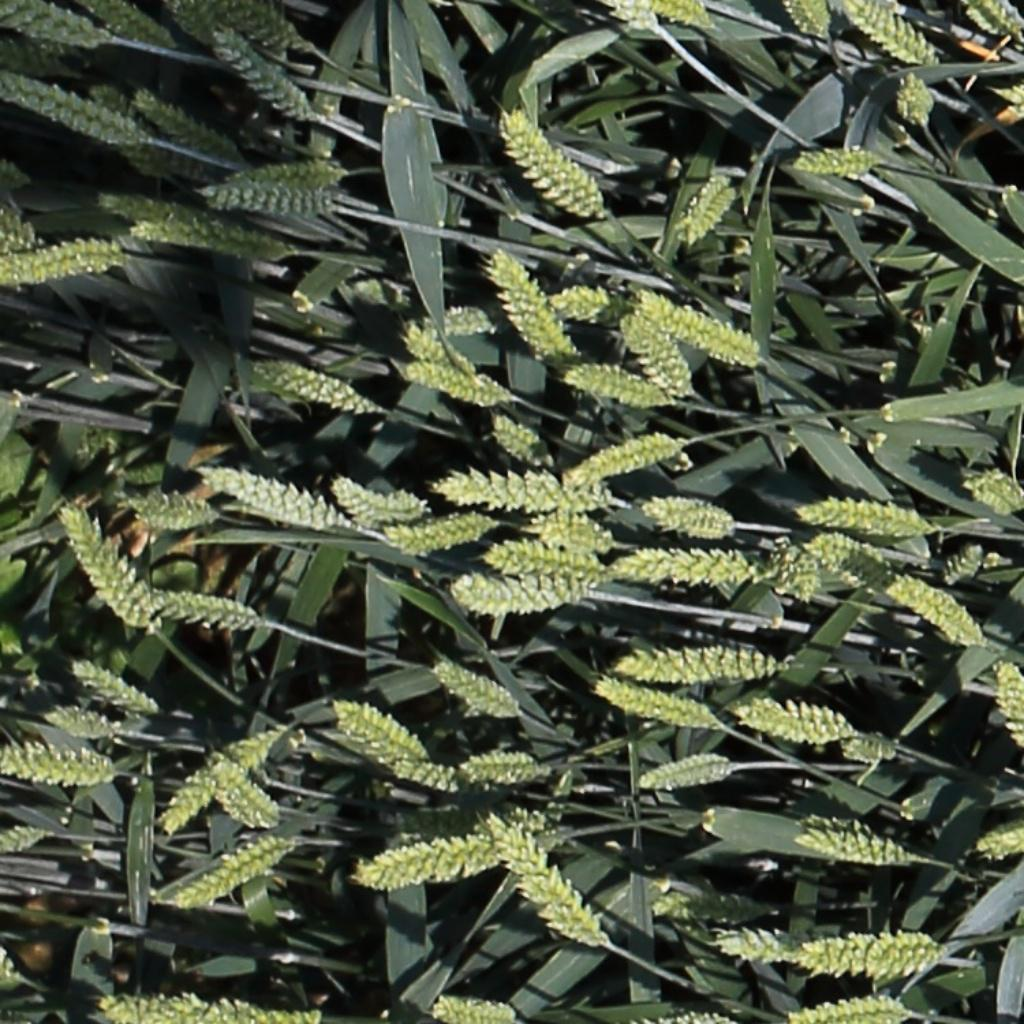0-0: (159, 712, 292, 833), (492, 822, 602, 943), (55, 503, 152, 630), (496, 107, 600, 214), (5, 72, 147, 146), (484, 245, 573, 361), (208, 27, 315, 121), (175, 828, 292, 911), (203, 469, 349, 531), (357, 829, 496, 887), (795, 926, 942, 980), (637, 294, 752, 361), (433, 471, 605, 514), (566, 427, 688, 483), (613, 646, 781, 686), (448, 571, 594, 616), (892, 573, 980, 647), (129, 88, 229, 152), (251, 359, 370, 412), (0, 241, 131, 289), (481, 535, 614, 582), (625, 305, 693, 396), (593, 679, 712, 729), (733, 698, 859, 745), (352, 752, 485, 796), (797, 816, 914, 865), (845, 1, 932, 66), (613, 547, 753, 587), (562, 365, 680, 411), (330, 703, 425, 760), (150, 587, 261, 635), (388, 513, 503, 557), (327, 479, 432, 527), (0, 742, 111, 787), (197, 184, 330, 221), (69, 659, 155, 716), (131, 222, 274, 256), (675, 170, 737, 247), (431, 663, 517, 718), (795, 500, 928, 535), (547, 280, 642, 328), (523, 511, 616, 559), (640, 496, 738, 541), (206, 764, 274, 828), (400, 363, 506, 404), (455, 753, 578, 788), (805, 539, 890, 588), (220, 153, 350, 185), (87, 0, 170, 49), (652, 895, 768, 928), (404, 305, 524, 335), (487, 412, 551, 468), (6, 5, 95, 45), (767, 536, 819, 603), (715, 926, 796, 967), (991, 660, 1024, 759), (78, 327, 137, 381), (791, 997, 907, 1024), (398, 322, 456, 374), (128, 494, 208, 531), (636, 761, 730, 789), (431, 992, 518, 1022), (966, 471, 1023, 516), (46, 712, 129, 740), (897, 70, 937, 126), (793, 149, 869, 177), (167, 1, 214, 46), (937, 543, 984, 587), (974, 1, 1024, 42), (636, 0, 709, 24), (787, 1, 828, 40), (839, 740, 894, 761), (0, 828, 50, 851), (983, 828, 1024, 854), (611, 0, 652, 24), (1008, 90, 1024, 121)
